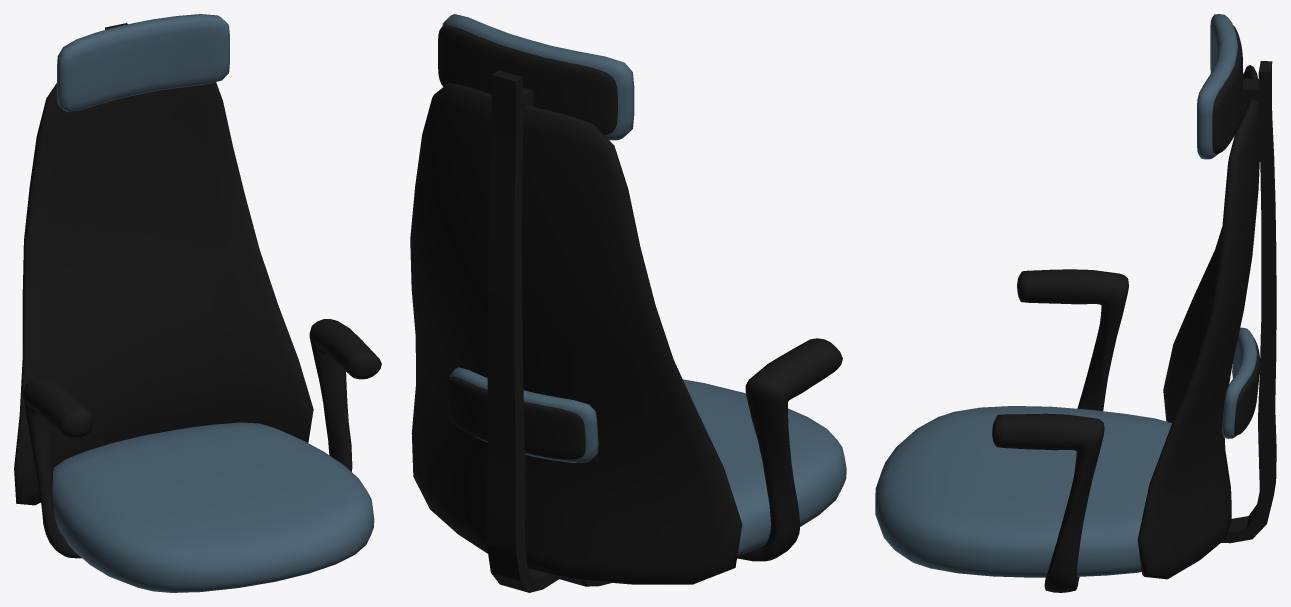
File: topChair.glb
3 views of the same model, side by side, from view 1: azimuth 30°, elevation 25°; view 2: azimuth 150°, elevation 25°; view 3: azimuth 270°, elevation 25° (orthographic). The views are drawn at different scales.
Visible parts, largest first — view 1: Cube.021, Cube.020, Cube.001, Plane.001; view 2: Cube.021, Cube.044, Cube.020, Cube.002, Plane.001, Cube.043, Cube.001, Cube.015; view 3: Cube.020, Cube.021, Plane.001, Cube.044, Cube.001, Cube.002, Cube.015, Cube.043.
Boxes of the visible parts, x1,y1,x2,y2 form: Cube.021: (14, 82, 313, 505); Cube.020: (52, 422, 374, 592); Cube.001: (57, 14, 229, 112); Plane.001: (23, 319, 381, 558); Cube.021: (410, 82, 742, 584); Cube.044: (486, 70, 561, 592); Cube.020: (683, 379, 846, 556); Cube.002: (438, 25, 617, 134); Plane.001: (737, 338, 842, 561); Cube.043: (447, 376, 585, 459); Cube.001: (442, 14, 634, 140); Cube.015: (450, 367, 598, 462); Cube.020: (875, 406, 1171, 577); Cube.021: (1137, 65, 1259, 579); Plane.001: (992, 269, 1128, 592); Cube.044: (1221, 61, 1276, 543); Cube.001: (1197, 14, 1237, 159); Cube.002: (1212, 25, 1243, 153); Cube.015: (1222, 327, 1257, 438); Cube.043: (1234, 338, 1259, 435).
Size of the model in its own units: 1.23 by 1.79 by 1.27.
